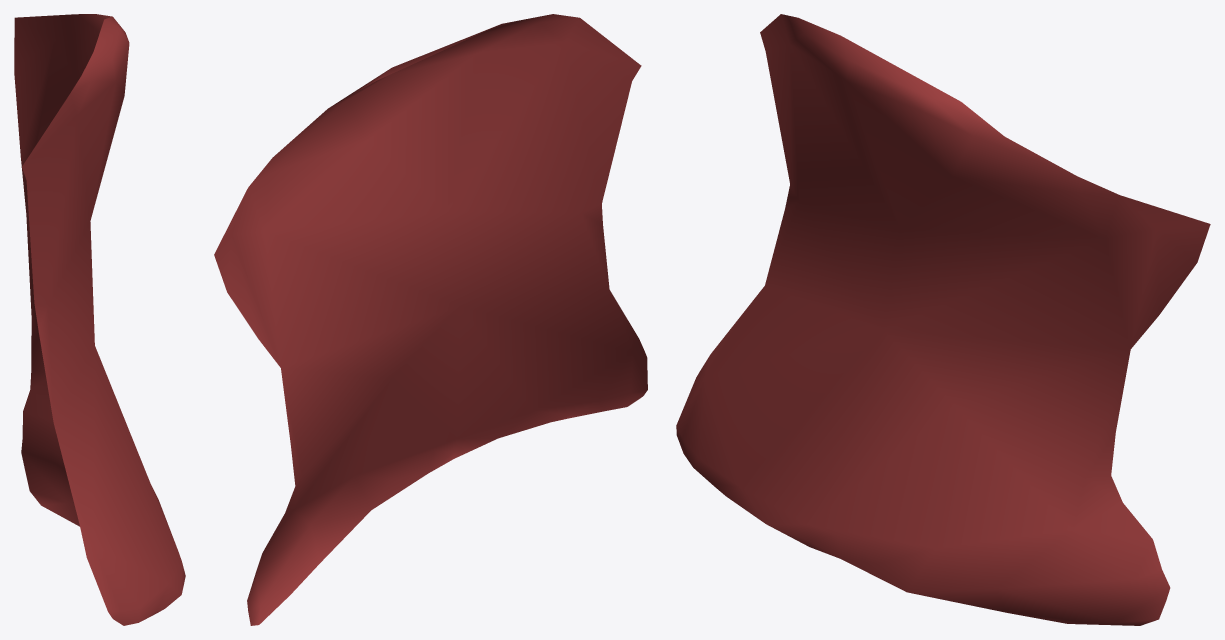
Rendered from diaphragm-o1l.glb.
3 views of the same model, side by side, from view 1: azimuth 30°, elevation 25°; view 2: azimuth 150°, elevation 25°; view 3: azimuth 270°, elevation 25° (orthographic). The views are drawn at different scales.
Visible parts, largest first — view 1: Diaphragm.o1l; view 2: Diaphragm.o1l; view 3: Diaphragm.o1l.
Part boxes in pixels (bbox=[...]): Diaphragm.o1l: bbox=[14, 14, 185, 625]; Diaphragm.o1l: bbox=[214, 14, 647, 625]; Diaphragm.o1l: bbox=[676, 14, 1210, 625].
Size of the model in its own units: 0.0136 by 0.0309 by 0.0275.
